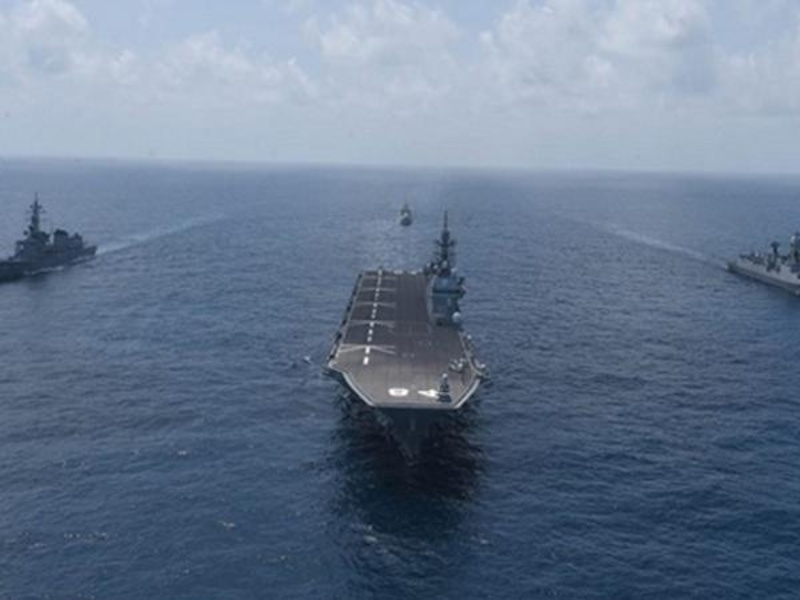carrier: (344, 250, 483, 467)
cruise: (8, 199, 91, 284), (721, 224, 800, 295), (383, 198, 424, 228)
